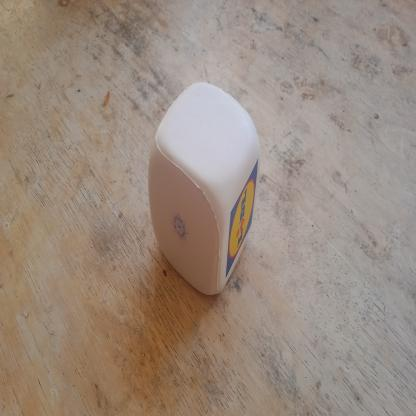Cube: (146, 77, 263, 300)
